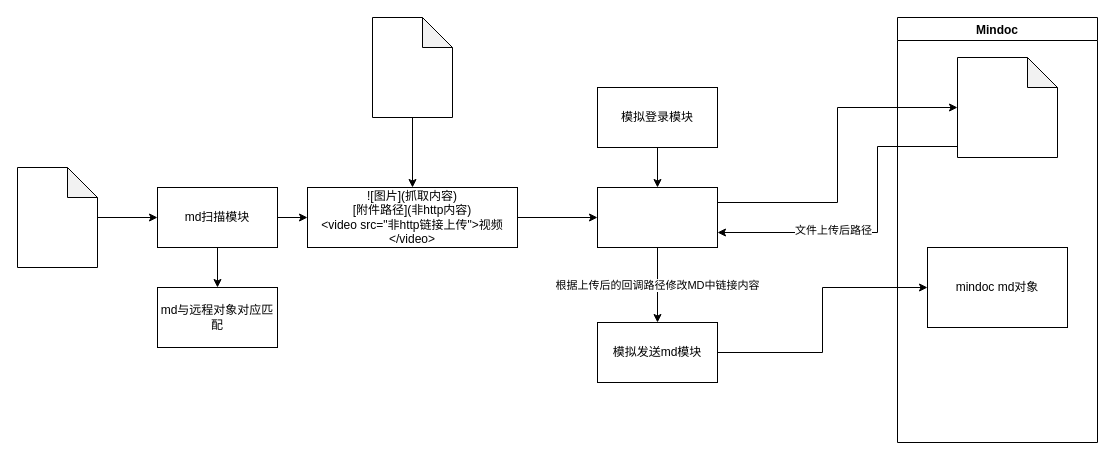
The diagram is 1115 pixels wide and 460 high, and some of its shapes have lost their labels. Each missing label, with the box of its shape:
MinDoc文件系统: (956, 56, 1058, 158)
图片 附件 视频: (372, 16, 452, 118)
本地md文件: (16, 166, 98, 268)
模拟上传模块 （图片/附件）: (596, 186, 718, 248)
